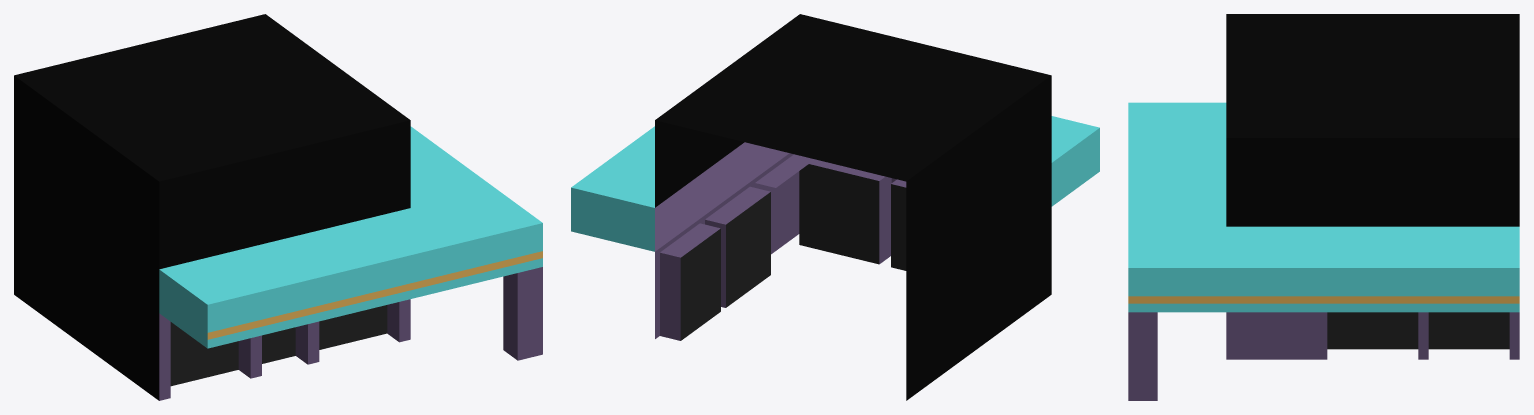
The model's file is Edificio-4.fbx.
3 views of the same model, side by side, from view 1: azimuth 30°, elevation 25°; view 2: azimuth 150°, elevation 25°; view 3: azimuth 270°, elevation 25° (orthographic).
Visible parts, largest first — view 1: Plane; view 2: Plane; view 3: Plane.
Boxes of the visible parts, x1,y1,x2,y2 form: Plane: (14,14,542,400); Plane: (571,14,1099,400); Plane: (1128,14,1519,400).
Bounding box in the file's own units: 800 × 500 × 800.
